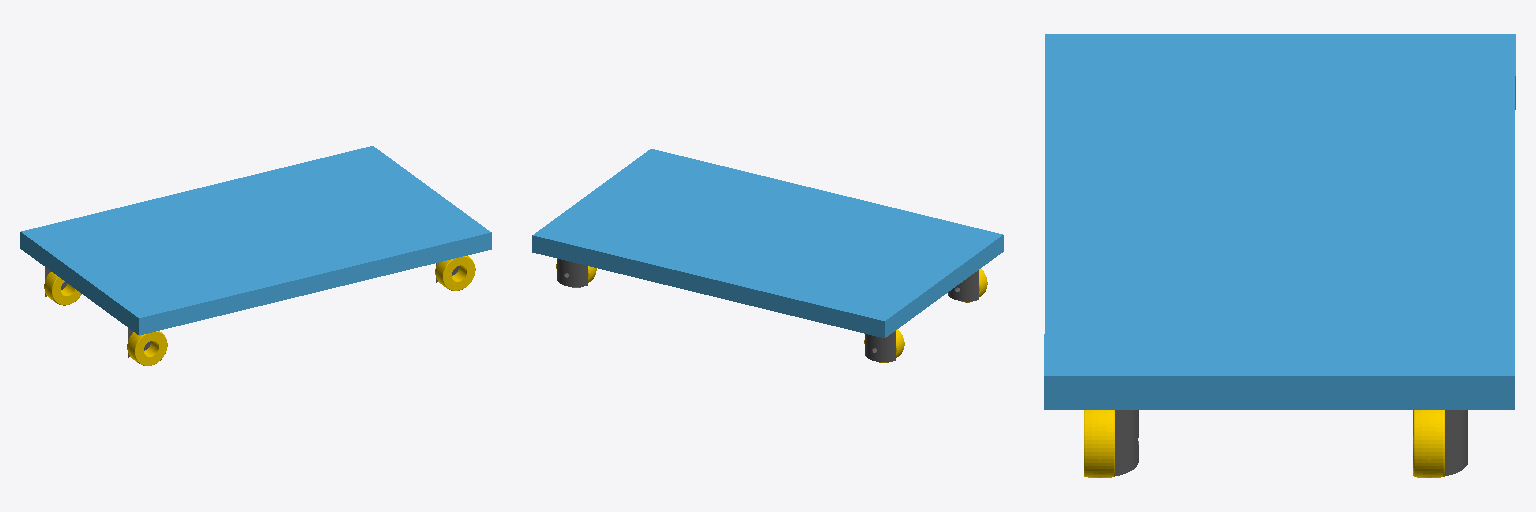
robot.urdf — mpo_700:
<?xml version="1.0" ?>
<!-- =================================================================================== -->
<!-- |    This document was autogenerated by xacro from mpo_700.urdf.xacro             | -->
<!-- |    EDITING THIS FILE BY HAND IS NOT RECOMMENDED                                 | -->
<!-- =================================================================================== -->
<robot name="mpo_700">
  <!-- SENSORS -->
  <!-- Sick S300 - Comment/Uncomment if required -->
  <!-- Microscan - Comment/Uncomment if required -->

  <link name="base_link"/>
  <joint name="base_footprint_joint" type="fixed">
    <origin rpy="0 0 0" xyz="0 0 0"/>
    <axis xyz="0 0 -1"/>
    <!-- <limit effort="1000.0" lower="-1e+16" upper="1e+16" velocity="3.5"/> -->
    <joint_properties damping="1" friction="1"/>
    <parent link="base_link"/>
    <child link="base_footprint"/>
  </joint>
  <link name="base_footprint">
    <inertial>
      <mass value="140"/>
      <origin xyz="0 0 0"/>
      <inertia ixx="7.8" ixy="0.0" ixz="0" iyy="7.8" iyz="0.0" izz="7.8"/>
    </inertial>
    <visual>
      <origin rpy="0 0 -1.571" xyz="0.0 0.0 0.123"/>
      <geometry>
        <mesh filename="package://rox_description/meshes/sample.dae" scale="0.1 0.1 0.1"/>
      </geometry>
    </visual>
    <collision>
      <origin rpy="0 0 -1.571" xyz="0. 0. 0.123"/>
      <geometry>
        <mesh filename="package://rox_description/meshes/sample.dae" scale="0.1 0.1 0.1"/>
      </geometry>
    </collision>
  </link>
  <joint name="mpo_700_caster_front_left_joint" type="revolute">
    <origin rpy="0 0 3.14" xyz="0.45 0.21 0.123"/>
    <axis xyz="0 0 1"/>
    <limit effort="1000.0" lower="-1e+16" upper="1e+16" velocity="6.5"/>
    <joint_properties damping="30" friction="110"/>
    <parent link="base_footprint"/>
    <child link="mpo_700_caster_front_left_link"/>
  </joint>
  <link name="mpo_700_caster_front_left_link">
    <inertial>
      <mass value="12.7"/>
      <origin rpy="0 0 0" xyz="0 0 0"/>
      <inertia ixx="0.27258101" ixy="0" ixz="0" iyy="0.27258101" iyz="0" izz="0.27258101"/>
    </inertial>
    <visual>
      <origin rpy="0 0 0" xyz="0 0 0.0"/>
      <geometry>
        <mesh filename="package://rox_description/meshes/argo_caster.dae" scale="0.001 0.001 0.001"/>
      </geometry>
    </visual>
    <collision>
      <origin rpy="0 0 0" xyz="0 0 0.0"/>
      <geometry>
        <mesh filename="package://rox_description/meshes/argo_caster.dae" scale="0.001 0.001 0.001"/>
      </geometry>
    </collision>
  </link>
  <joint name="mpo_700_caster_front_right_joint" type="revolute">
    <origin rpy="0 0 0" xyz="0.45 -0.21 0.123"/>
    <axis xyz="0 0 1"/>
    <limit effort="1000.0" lower="-1e+16" upper="1e+16" velocity="6.5"/>
    <joint_properties damping="30" friction="110"/>
    <parent link="base_footprint"/>
    <child link="mpo_700_caster_front_right_link"/>
  </joint>
  <link name="mpo_700_caster_front_right_link">
    <inertial>
      <mass value="12.7"/>
      <origin rpy="0 0 0" xyz="0 0 0"/>
      <inertia ixx="0.27258101" ixy="0" ixz="0" iyy="0.27258101" iyz="0" izz="0.27258101"/>
    </inertial>
    <visual>
      <origin rpy="0 0 3.14" xyz="0 0 0.0"/>
      <geometry>
        <mesh filename="package://rox_description/meshes/argo_caster.dae" scale="0.001 0.001 0.001"/>
      </geometry>
    </visual>
    <collision>
      <origin rpy="0 0 3.14" xyz="0 0 0.0"/>
      <geometry>
        <mesh filename="package://rox_description/meshes/argo_caster.dae" scale="0.001 0.001 0.001"/>
      </geometry>
    </collision>
  </link>
  <joint name="mpo_700_caster_back_left_joint" type="revolute">
    <origin rpy="0 0 3.14" xyz="-0.45 0.21 0.123"/>
    <axis xyz="0 0 1"/>
    <limit effort="1000.0" lower="-1e+16" upper="1e+16" velocity="6.5"/>
    <joint_properties damping="30" friction="110"/>
    <parent link="base_footprint"/>
    <child link="mpo_700_caster_back_left_link"/>
  </joint>
  <link name="mpo_700_caster_back_left_link">
    <inertial>
      <mass value="12.7"/>
      <origin rpy="0 0 0" xyz="0 0 0"/>
      <inertia ixx="0.27258101" ixy="0" ixz="0" iyy="0.27258101" iyz="0" izz="0.27258101"/>
    </inertial>
    <visual>
      <origin rpy="0 0 0" xyz="0 0 0.0"/>
      <geometry>
        <mesh filename="package://rox_description/meshes/argo_caster.dae" scale="0.001 0.001 0.001"/>
      </geometry>
    </visual>
    <collision>
      <origin rpy="0 0 0" xyz="0 0 0.0"/>
      <geometry>
        <mesh filename="package://rox_description/meshes/argo_caster.dae" scale="0.001 0.001 0.001"/>
      </geometry>
    </collision>
  </link>
  <joint name="mpo_700_caster_back_right_joint" type="revolute">
    <origin rpy="0 0 0" xyz="-0.45 -0.21 0.123"/>
    <axis xyz="0 0 1"/>
    <limit effort="1000.0" lower="-1e+16" upper="1e+16" velocity="6.5"/>
    <joint_properties damping="30" friction="110"/>
    <parent link="base_footprint"/>
    <child link="mpo_700_caster_back_right_link"/>
  </joint>
  <link name="mpo_700_caster_back_right_link">
    <inertial>
      <mass value="12.7"/>
      <origin rpy="0 0 0" xyz="0 0 0"/>
      <inertia ixx="0.27258101" ixy="0" ixz="0" iyy="0.27258101" iyz="0" izz="0.27258101"/>
    </inertial>
    <visual>
      <origin rpy="0 0 3.14" xyz="0 0 0.0"/>
      <geometry>
        <mesh filename="package://rox_description/meshes/argo_caster.dae" scale="0.001 0.001 0.001"/>
      </geometry>
    </visual>
    <collision>
      <origin rpy="0 0 3.14" xyz="0 0 0.0"/>
      <geometry>
        <mesh filename="package://rox_description/meshes/argo_caster.dae" scale="0.001 0.001 0.001"/>
      </geometry>
    </collision>
  </link>
  <joint name="mpo_700_wheel_front_left_joint" type="revolute">
    <origin rpy="0 0 0" xyz="0.0 0.0 -0.07225"/>
    <limit effort="1000.0" lower="-1e+16" upper="1e+16" velocity="20.5"/>
    <axis xyz="0 -1 0"/>
    <joint_properties damping="30" friction="110"/>
    <parent link="mpo_700_caster_front_left_link"/>
    <child link="mpo_700_wheel_front_left_link"/>
  </joint>
  <link name="mpo_700_wheel_front_left_link" type="wheel">
    <inertial>
      <mass value="1.2"/>
      <origin rpy="0 0 0" xyz="0 0 0"/>
      <inertia ixx="0.11042056" ixy="0.0" ixz="0.0" iyy="0.11042056" iyz="0.0" izz="0.11042056"/>
    </inertial>
    <visual>
      <origin rpy="0 0 3.14" xyz="0 0.020 0"/>
      <geometry>
        <mesh filename="package://rox_description/meshes/argo_wheel.dae" scale="0.1 0.1 0.1"/>
      </geometry>
    </visual>
    <collision>
      <origin rpy="0 0 0" xyz="0 0.020 0"/>
      <geometry>
        <sphere radius="0.09"/>
        <!-- <mesh filename="package://rox_description/meshes/argo_wheel.dae" scale="0.001 0.001 0.001"/> -->
      </geometry>
    </collision>
  </link>
  <joint name="mpo_700_wheel_front_right_joint" type="revolute">
    <origin rpy="0 0 3.14" xyz="0.0 0.0 -0.07225"/>
    <limit effort="1000.0" lower="-1e+16" upper="1e+16" velocity="20.5"/>
    <axis xyz="0 -1 0"/>
    <joint_properties damping="30" friction="110"/>
    <parent link="mpo_700_caster_front_right_link"/>
    <child link="mpo_700_wheel_front_right_link"/>
  </joint>
  <link name="mpo_700_wheel_front_right_link" type="wheel">
    <inertial>
      <mass value="1.2"/>
      <origin rpy="0 0 0" xyz="0 0 0"/>
      <inertia ixx="0.11042056" ixy="0.0" ixz="0.0" iyy="0.11042056" iyz="0.0" izz="0.11042056"/>
    </inertial>
    <visual>
      <origin rpy="0 0 3.14" xyz="0 0.020 0"/>
      <geometry>
        <mesh filename="package://rox_description/meshes/argo_wheel.dae" scale="0.1 0.1 0.1"/>
      </geometry>
    </visual>
    <collision>
      <origin rpy="0 0 0" xyz="0 0.020 0"/>
      <geometry>
        <sphere radius="0.09"/>
        <!-- <mesh filename="package://rox_description/meshes/argo_wheel.dae" scale="0.001 0.001 0.001"/> -->
      </geometry>
    </collision>
  </link>
  <joint name="mpo_700_wheel_back_left_joint" type="revolute">
    <origin rpy="0 0 0" xyz="0.0 0.0 -0.07225"/>
    <limit effort="1000.0" lower="-1e+16" upper="1e+16" velocity="20.5"/>
    <axis xyz="0 -1 0"/>
    <joint_properties damping="30" friction="110"/>
    <parent link="mpo_700_caster_back_left_link"/>
    <child link="mpo_700_wheel_back_left_link"/>
  </joint>
  <link name="mpo_700_wheel_back_left_link" type="wheel">
    <inertial>
      <mass value="1.2"/>
      <origin rpy="0 0 0" xyz="0 0 0"/>
      <inertia ixx="0.11042056" ixy="0.0" ixz="0.0" iyy="0.11042056" iyz="0.0" izz="0.11042056"/>
    </inertial>
    <visual>
      <origin rpy="0 0 3.14" xyz="0 0.020 0"/>
      <geometry>
        <mesh filename="package://rox_description/meshes/argo_wheel.dae" scale="0.1 0.1 0.1"/>
      </geometry>
    </visual>
    <collision>
      <origin rpy="0 0 0" xyz="0 0.020 0"/>
      <geometry>
        <sphere radius="0.09"/>
        <!-- <mesh filename="package://rox_description/meshes/argo_wheel.dae" scale="0.001 0.001 0.001"/> -->
      </geometry>
    </collision>
  </link>
  <joint name="mpo_700_wheel_back_right_joint" type="revolute">
    <origin rpy="0 0 3.14" xyz="0.0 0 -0.07225"/>
    <limit effort="1000.0" lower="-1e+16" upper="1e+16" velocity="20.5"/>
    <axis xyz="0 -1 0"/>
    <joint_properties damping="30" friction="110"/>
    <parent link="mpo_700_caster_back_right_link"/>
    <child link="mpo_700_wheel_back_right_link"/>
  </joint>
  <link name="mpo_700_wheel_back_right_link" type="wheel">
    <inertial>
      <mass value="1.2"/>
      <origin rpy="0 0 0" xyz="0 0 0"/>
      <inertia ixx="0.11042056" ixy="0.0" ixz="0.0" iyy="0.11042056" iyz="0.0" izz="0.11042056"/>
    </inertial>
    <visual>
      <origin rpy="0 0 3.14" xyz="0 0.020 0"/>
      <geometry>
        <mesh filename="package://rox_description/meshes/argo_wheel.dae" scale="0.1 0.1 0.1"/>
      </geometry>
    </visual>
    <collision>
      <origin rpy="0 0 0" xyz="0 0.020 0"/>
      <geometry>
        <sphere radius="0.09"/>
        <!-- <mesh filename="package://rox_description/meshes/argo_wheel.dae" scale="0.001 0.001 0.001"/> -->
      </geometry>
    </collision>
  </link>
  <!-- Sensors -->
  <joint name="lidar_1_joint" type="fixed">
    <axis xyz="0 1 0"/>
    <origin rpy="3.14 0 0" xyz="0.60 0.25 0.10"/>
    <parent link="base_link"/>
    <child link="lidar_1_link"/>
  </joint>
  <link name="lidar_1_link" type="laser">
    <inertial>
      <mass value="0.001"/>
      <origin rpy="0 0 0" xyz="0 0 0"/>
      <inertia ixx="0.0001" ixy="0" ixz="0" iyy="0.000001" iyz="0" izz="0.0001"/>
    </inertial>
    <visual>
      <origin rpy="-3.14 0 0" xyz="0 0 -0.0"/>
      <geometry>
        <mesh filename="package://rox_description/meshes/nanoscan_3.dae" scale="0.1 0.1 0.1"/>
      </geometry>
    </visual>
    <collision>
      <origin rpy="-3.14 0 0" xyz="0 0 -0.0"/>
      <geometry>
        <mesh filename="package://rox_description/meshes/nanoscan_3.dae" scale="0.1 0.1 0.1"/>
      </geometry>
    </collision>
  </link>
  <joint name="lidar_2_joint" type="fixed">
    <axis xyz="0 1 0"/>
    <origin rpy="3.14 0 3.14" xyz="-0.60 -0.25 0.10"/>
    <parent link="base_link"/>
    <child link="lidar_2_link"/>
  </joint>
  <link name="lidar_2_link" type="laser">
    <inertial>
      <mass value="0.001"/>
      <origin rpy="-3.14 0 0" xyz="0 0 0.0"/>
      <inertia ixx="0.0001" ixy="0" ixz="0" iyy="0.000001" iyz="0" izz="0.0001"/>
    </inertial>
    <visual>
      <origin rpy="-3.14 0 0" xyz="0 0 -0.0"/>
      <geometry>
        <mesh filename="package://rox_description/meshes/nanoscan_3.dae" scale="0.1 0.1 0.1"/>
      </geometry>
    </visual>
    <collision>
      <origin rpy="-3.14 0 0" xyz="0 0 -0.0"/>
      <geometry>
        <mesh filename="package://rox_description/meshes/nanoscan_3.dae" scale="0.1 0.1 0.1"/>
      </geometry>
    </collision>
  </link>

</robot>

--- Facts derived from the render (not from the file) ---
The picture shows the robot from 3 angles, left to right: view 1: azimuth 30°, elevation 25°; view 2: azimuth 150°, elevation 25°; view 3: azimuth 270°, elevation 25°; orthographic projection.
Robot: mpo_700 — 12 links, 11 joints (8 revolute, 3 fixed); root link base_link; default pose: all joints at 0.
Visible links, largest first — view 1: base_footprint, mpo_700_wheel_back_right_link, mpo_700_wheel_front_right_link, mpo_700_wheel_back_left_link; view 2: base_footprint, mpo_700_caster_back_left_link, mpo_700_caster_front_left_link, mpo_700_caster_back_right_link; view 3: base_footprint, mpo_700_wheel_front_left_link, mpo_700_wheel_front_right_link, mpo_700_caster_front_right_link, mpo_700_caster_front_left_link.
Link boxes in pixels (x1,y1,x2,y2): base_footprint: [20, 146, 491, 335]; mpo_700_wheel_back_right_link: [127, 331, 167, 365]; mpo_700_wheel_front_right_link: [435, 256, 475, 290]; mpo_700_wheel_back_left_link: [44, 272, 81, 305]; base_footprint: [532, 149, 1003, 337]; mpo_700_caster_back_left_link: [865, 331, 895, 361]; mpo_700_caster_front_left_link: [557, 259, 587, 286]; mpo_700_caster_back_right_link: [948, 270, 978, 301]; base_footprint: [1044, 34, 1515, 409]; mpo_700_wheel_front_left_link: [1413, 410, 1444, 477]; mpo_700_wheel_front_right_link: [1084, 410, 1114, 477]; mpo_700_caster_front_right_link: [1115, 410, 1138, 475]; mpo_700_caster_front_left_link: [1445, 410, 1467, 475].
Bounding box of the posed robot: 1.03 × 0.6002 × 0.1692 m (x, y, z).
9 mesh visuals loaded from 4 distinct referenced files (3 Collada DAE); not drawn: 2 (reference not matched to a file when rendering).